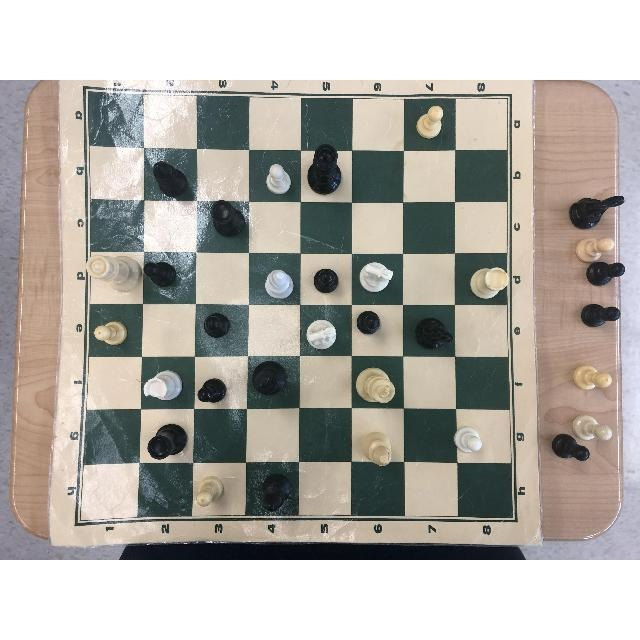black-bishop: (153, 161, 187, 196), (262, 474, 292, 512)
black-king: (415, 318, 454, 349), (252, 361, 286, 393)
black-pawn: (143, 262, 174, 288), (198, 379, 226, 403), (204, 313, 230, 337), (314, 268, 338, 293), (357, 311, 381, 335)
black-queen: (308, 144, 340, 194)
black-rook: (147, 424, 186, 459), (211, 200, 245, 236)
white-bishop: (362, 431, 392, 466), (266, 269, 294, 298)
white-king: (356, 368, 395, 402)
white-knight: (361, 261, 393, 292), (307, 320, 337, 349)
white-pawn: (417, 106, 443, 138), (93, 321, 126, 345), (197, 476, 223, 506), (266, 164, 291, 194), (454, 427, 482, 452)
white-queen: (86, 255, 142, 291)
white-rook: (470, 267, 508, 299), (143, 370, 182, 400)
